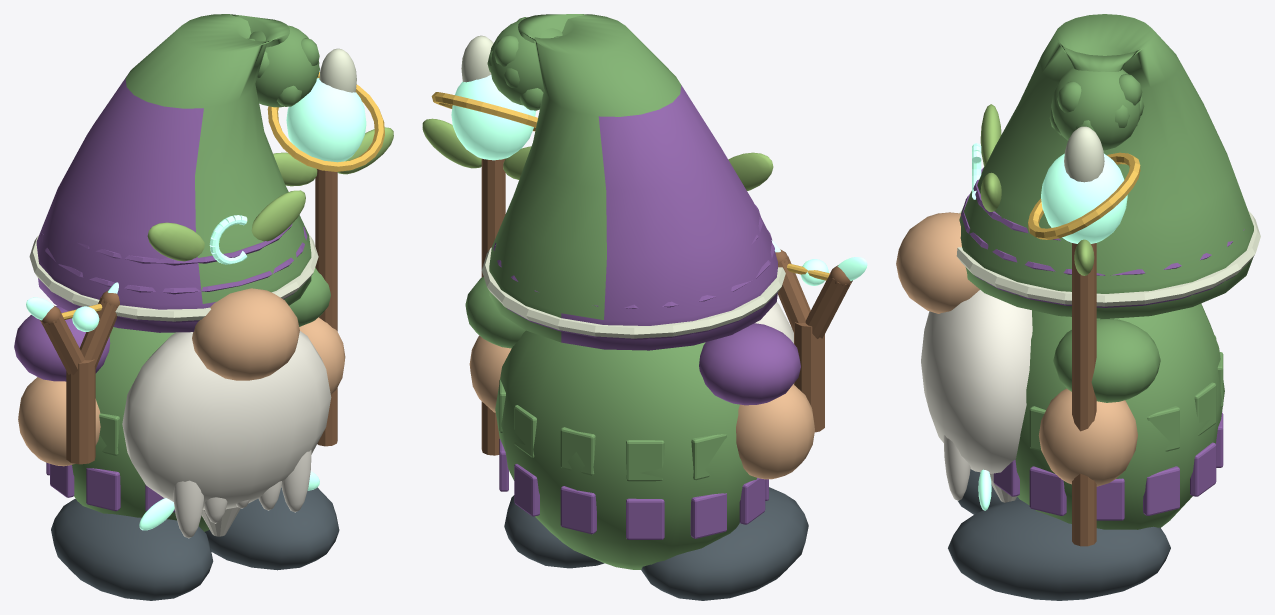
Rendered from gnome-fusion-necro-sprout.glb.
3 views of the same model, side by side, from view 1: azimuth 30°, elevation 25°; view 2: azimuth 150°, elevation 25°; view 3: azimuth 270°, elevation 25° (orthographic). The views are drawn at different scales.
Parts seen in each view (by area): view 1: gnome-fusion-necro-sprout; view 2: gnome-fusion-necro-sprout; view 3: gnome-fusion-necro-sprout.
Part boxes in pixels (bbox=[...]): gnome-fusion-necro-sprout: bbox=[14, 14, 393, 600]; gnome-fusion-necro-sprout: bbox=[422, 14, 867, 600]; gnome-fusion-necro-sprout: bbox=[896, 14, 1260, 600].
Bounding box in the file's own units: 1.19 × 1.46 × 0.882.
